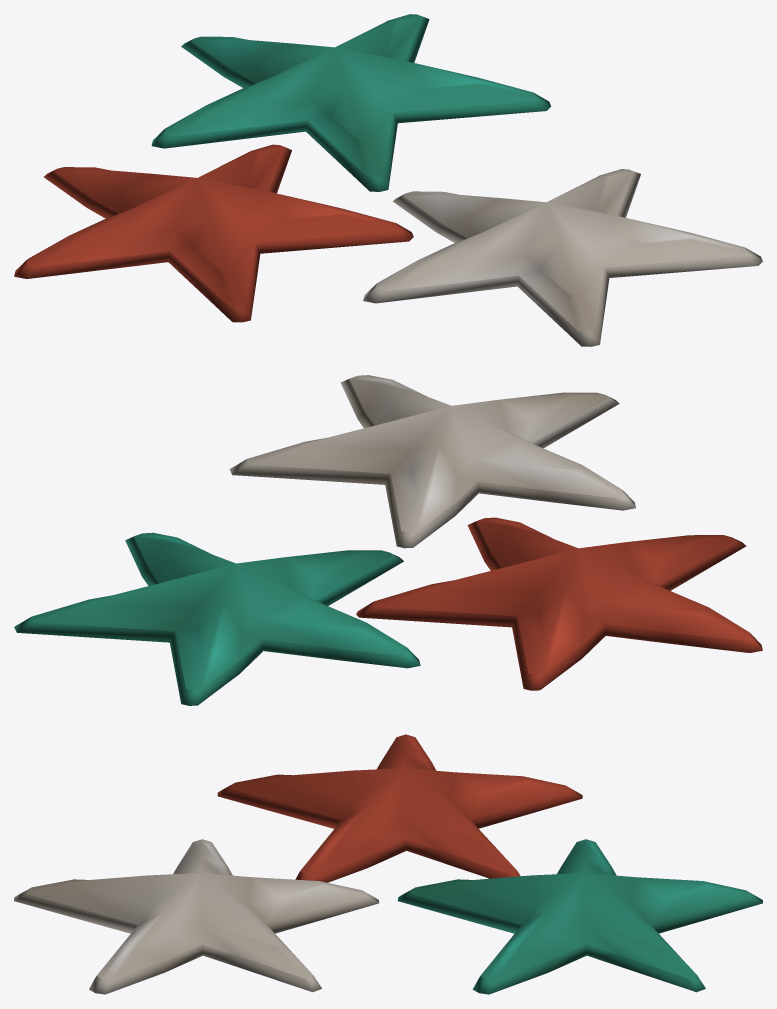
The model's file is Starfish.glb.
The picture shows the model from 3 angles, top to bottom: view 1: azimuth 30°, elevation 25°; view 2: azimuth 150°, elevation 25°; view 3: azimuth 270°, elevation 25°; orthographic projection. The views are drawn at different scales.
Visible parts, largest first — view 1: Starfish; view 2: Starfish; view 3: Starfish.
Boxes of the visible parts, bbox=[...] form: Starfish: bbox=[14, 14, 762, 346]; Starfish: bbox=[14, 375, 762, 705]; Starfish: bbox=[14, 734, 762, 994].
Size of the model in its own units: 0.2842 by 0.0258 by 0.35.
